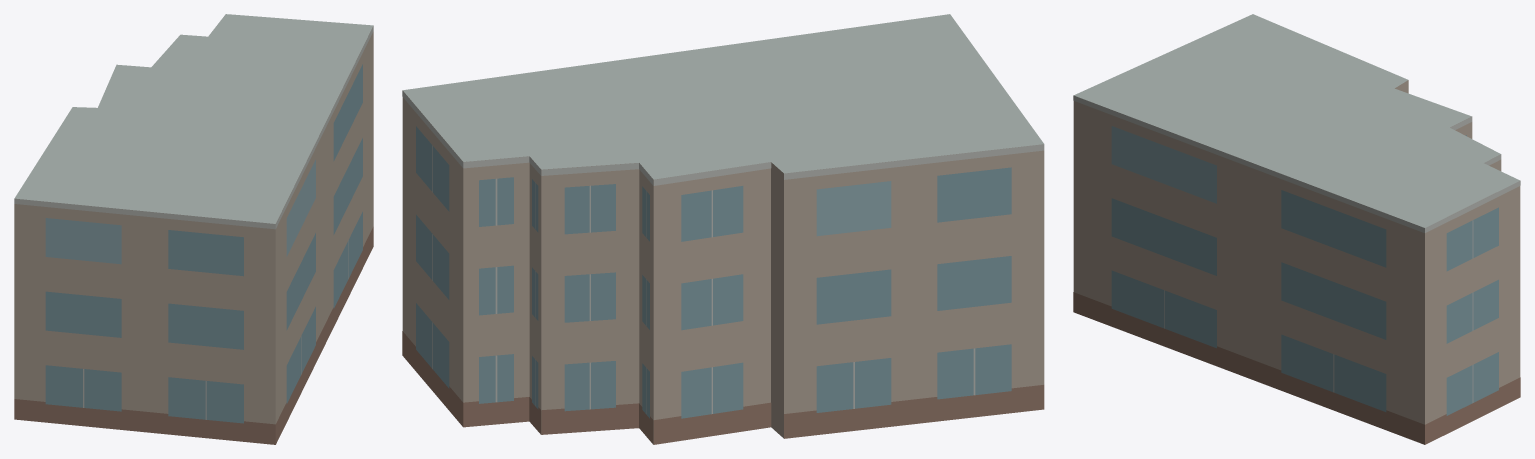
The model's file is survey-upis-32874316.glb.
3 renders of one model, left to right at view 1: azimuth 30°, elevation 25°; view 2: azimuth 150°, elevation 25°; view 3: azimuth 270°, elevation 25°, orthographic. The views are drawn at different scales.
Visible parts, largest first — view 1: survey-upis-32874316.tmp; view 2: survey-upis-32874316.tmp; view 3: survey-upis-32874316.tmp.
Boxes of the visible parts, bbox=[...] form: survey-upis-32874316.tmp: bbox=[14, 14, 373, 444]; survey-upis-32874316.tmp: bbox=[402, 14, 1044, 444]; survey-upis-32874316.tmp: bbox=[1073, 14, 1520, 444].
Bounding box in the file's own units: 21.39 × 10.1 × 18.87.
